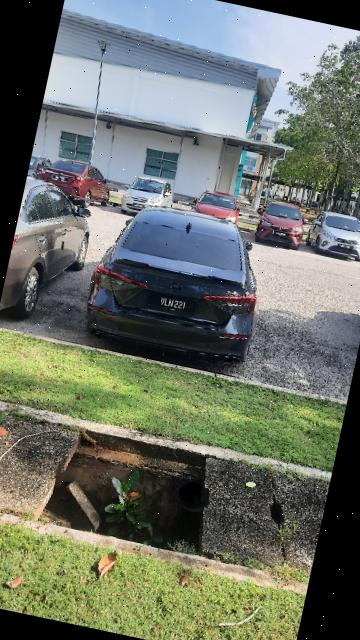License_Plate: (144, 289, 204, 319), (51, 174, 70, 183), (273, 231, 290, 239), (132, 203, 147, 211), (338, 244, 354, 251)
car: (77, 197, 276, 373), (1, 179, 101, 335), (37, 157, 117, 213), (251, 198, 312, 253), (304, 208, 360, 264), (120, 173, 178, 222), (191, 188, 245, 225)
